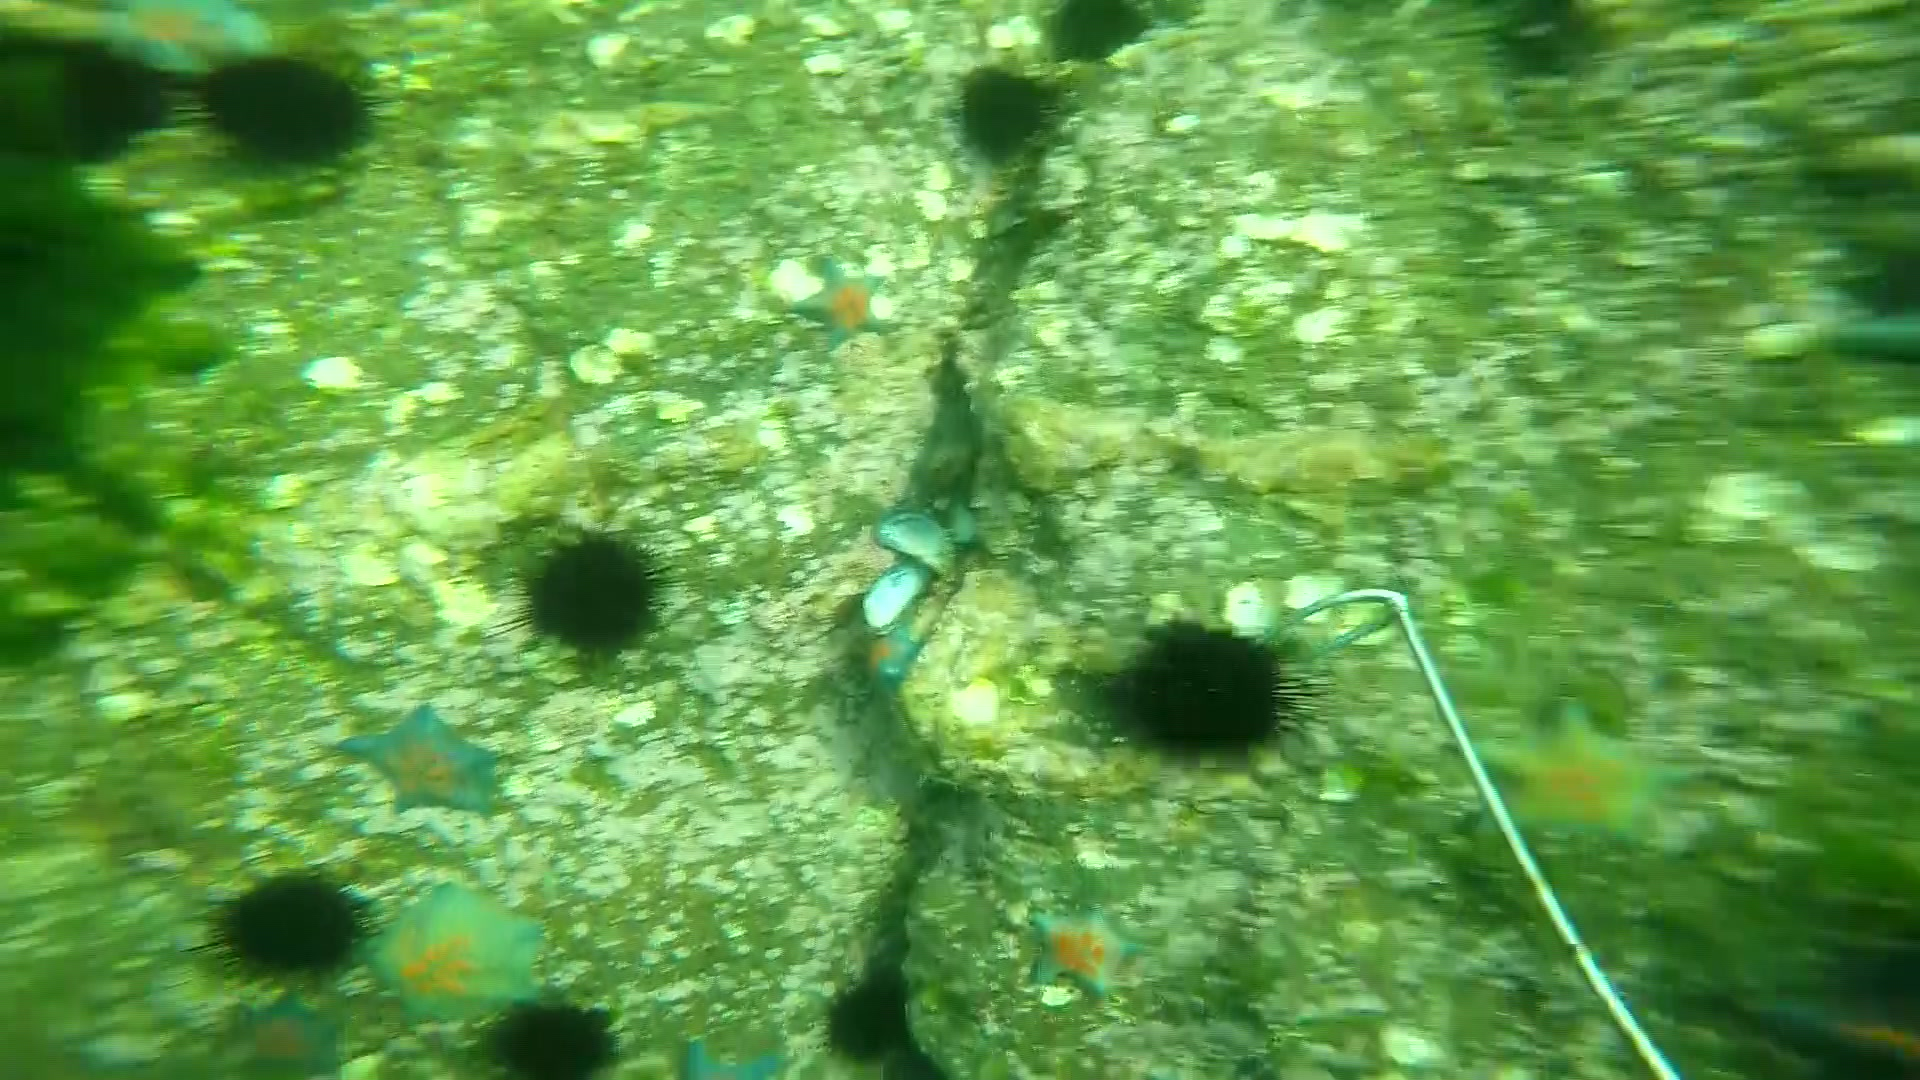echinus: (1091, 611, 1335, 781), (495, 518, 676, 649), (196, 855, 377, 982), (182, 54, 376, 167), (812, 969, 924, 1072), (485, 998, 624, 1080), (945, 65, 1055, 164), (1494, 1, 1598, 91)
starfish: (1468, 690, 1706, 862), (382, 886, 560, 1018), (344, 700, 520, 818), (102, 1, 274, 91), (1026, 898, 1156, 1007), (795, 256, 895, 349), (240, 997, 342, 1080), (662, 1034, 793, 1080), (853, 620, 924, 698)
